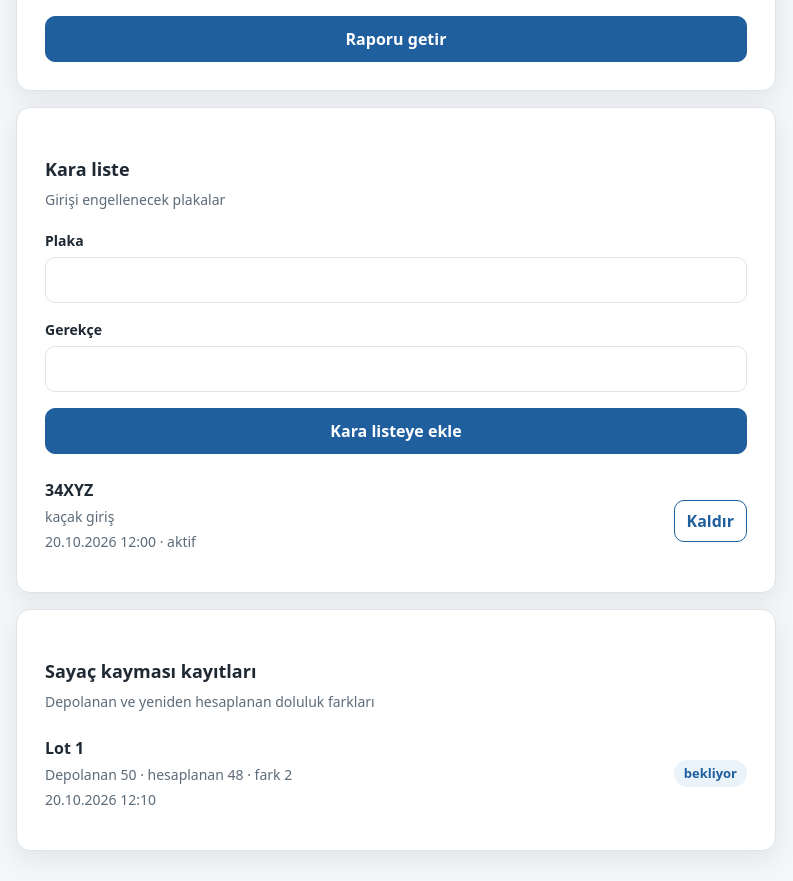
Test: MudurPage › boş plaka ile kara listeye ekleme yapmaz ve uyarı gösterir
(page scrolled)
Click the button "Kara listeye ekle". click: (396, 431)
box: [45,408,747,454]
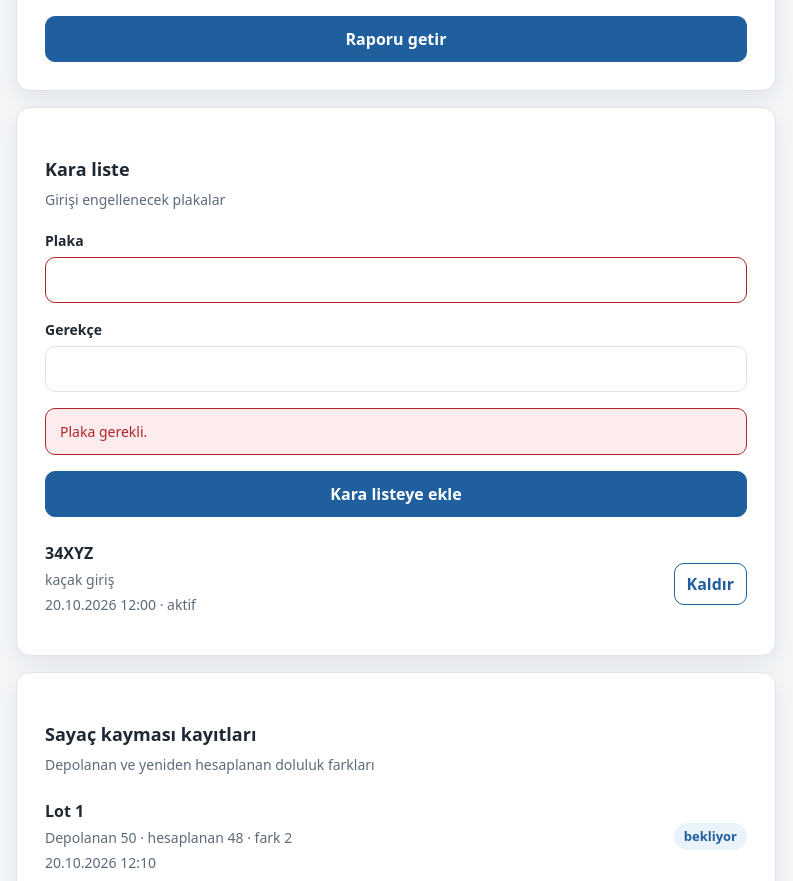
Result: the text "Plaka gerekli." is shown at [45,408,747,455]
